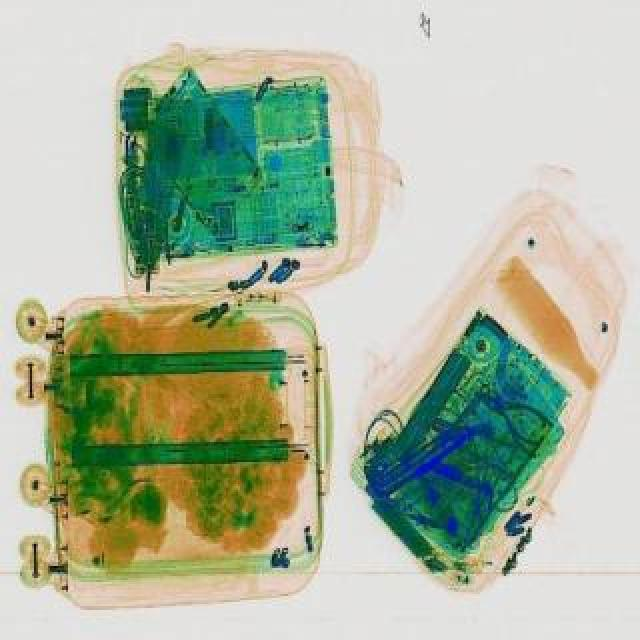wrench: (470, 380, 562, 452)
